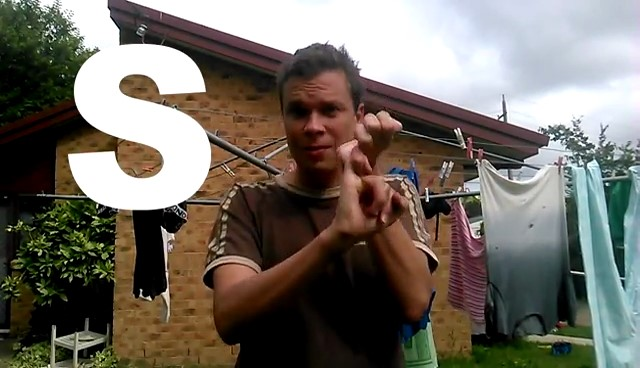S: (326, 105, 418, 258)
